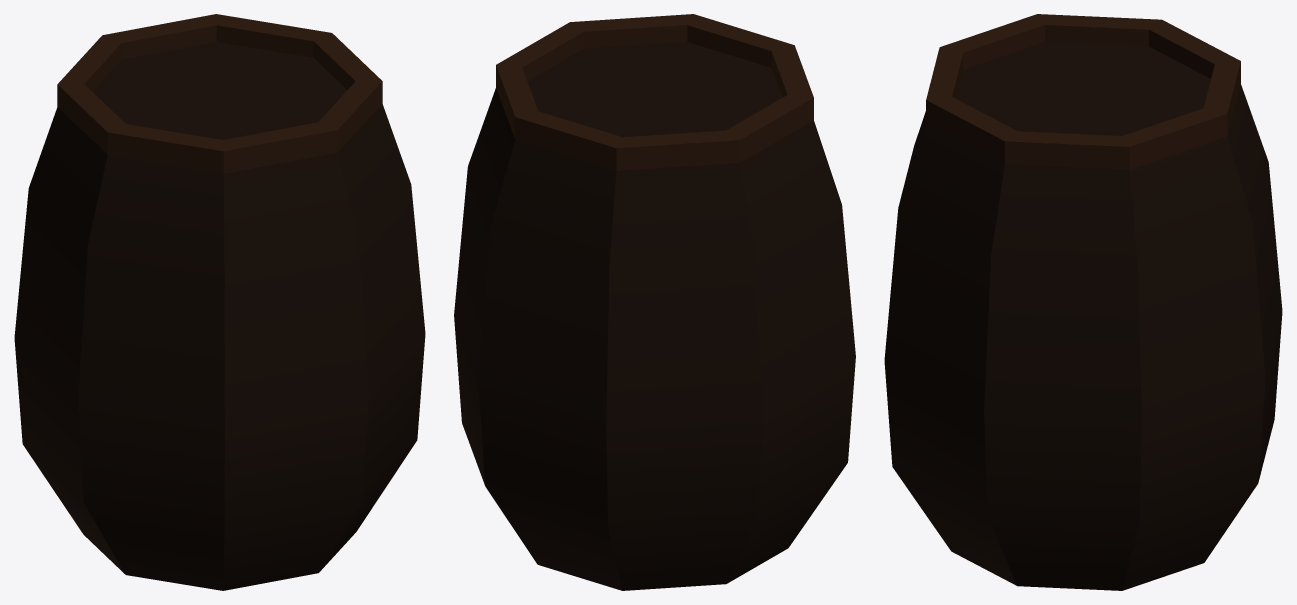
File: Barrel.fbx
The picture shows the model from 3 angles, left to right: view 1: azimuth 30°, elevation 25°; view 2: azimuth 150°, elevation 25°; view 3: azimuth 270°, elevation 25°; orthographic projection.
Parts seen in each view (by area): view 1: Barrel; view 2: Barrel; view 3: Barrel.
Part boxes in pixels (box(x1,y1,x2,y2)): Barrel: box(14, 14, 425, 590); Barrel: box(454, 14, 855, 590); Barrel: box(884, 14, 1282, 590).
Size of the model in its own units: 0.7108 by 0.8958 by 0.7108.
